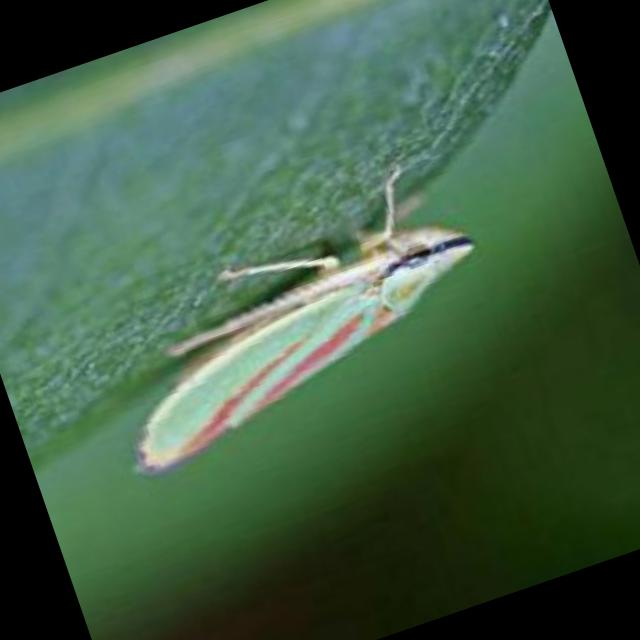green-leafhopper: (87, 182, 510, 479)
